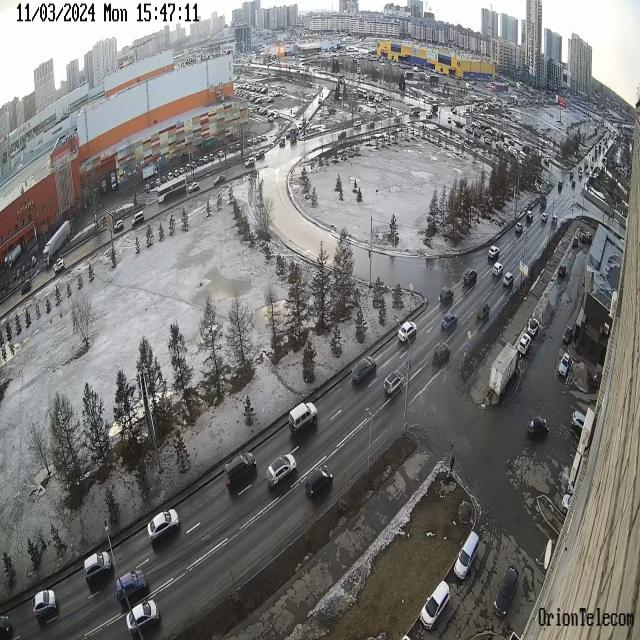car: (419, 579, 451, 632), (125, 596, 162, 640), (42, 219, 70, 273), (493, 563, 519, 619), (224, 449, 257, 491), (266, 451, 298, 494), (115, 564, 146, 608), (147, 505, 180, 546), (454, 529, 479, 582), (305, 461, 333, 506), (288, 399, 319, 437), (83, 548, 111, 588), (350, 353, 377, 391), (156, 175, 187, 207), (33, 587, 56, 624), (382, 369, 406, 399), (527, 415, 549, 442), (396, 320, 417, 347), (433, 340, 451, 370), (440, 310, 458, 334), (516, 332, 532, 357), (571, 410, 588, 433), (462, 264, 477, 290), (557, 351, 571, 378), (439, 284, 455, 307), (474, 302, 491, 322), (131, 206, 144, 230), (526, 316, 540, 338), (491, 259, 504, 279), (20, 278, 32, 299), (54, 258, 65, 280), (488, 242, 500, 262), (112, 218, 125, 236), (188, 179, 200, 197), (504, 270, 514, 288), (525, 209, 535, 224), (559, 261, 567, 278), (514, 222, 524, 235), (541, 210, 549, 223), (551, 214, 557, 227)
